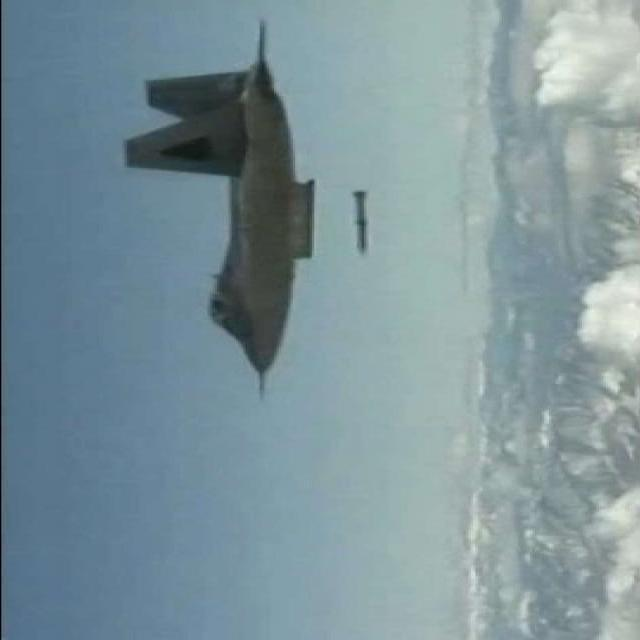missile: (353, 187, 370, 256)
